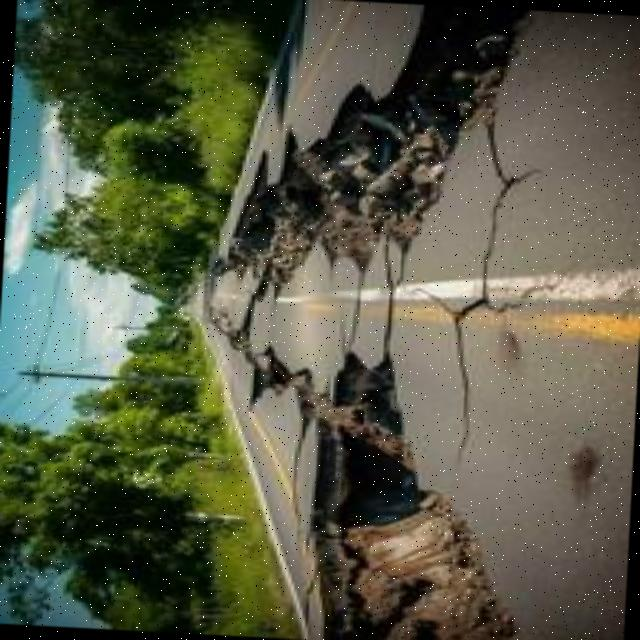road collapse: (124, 0, 640, 640)
